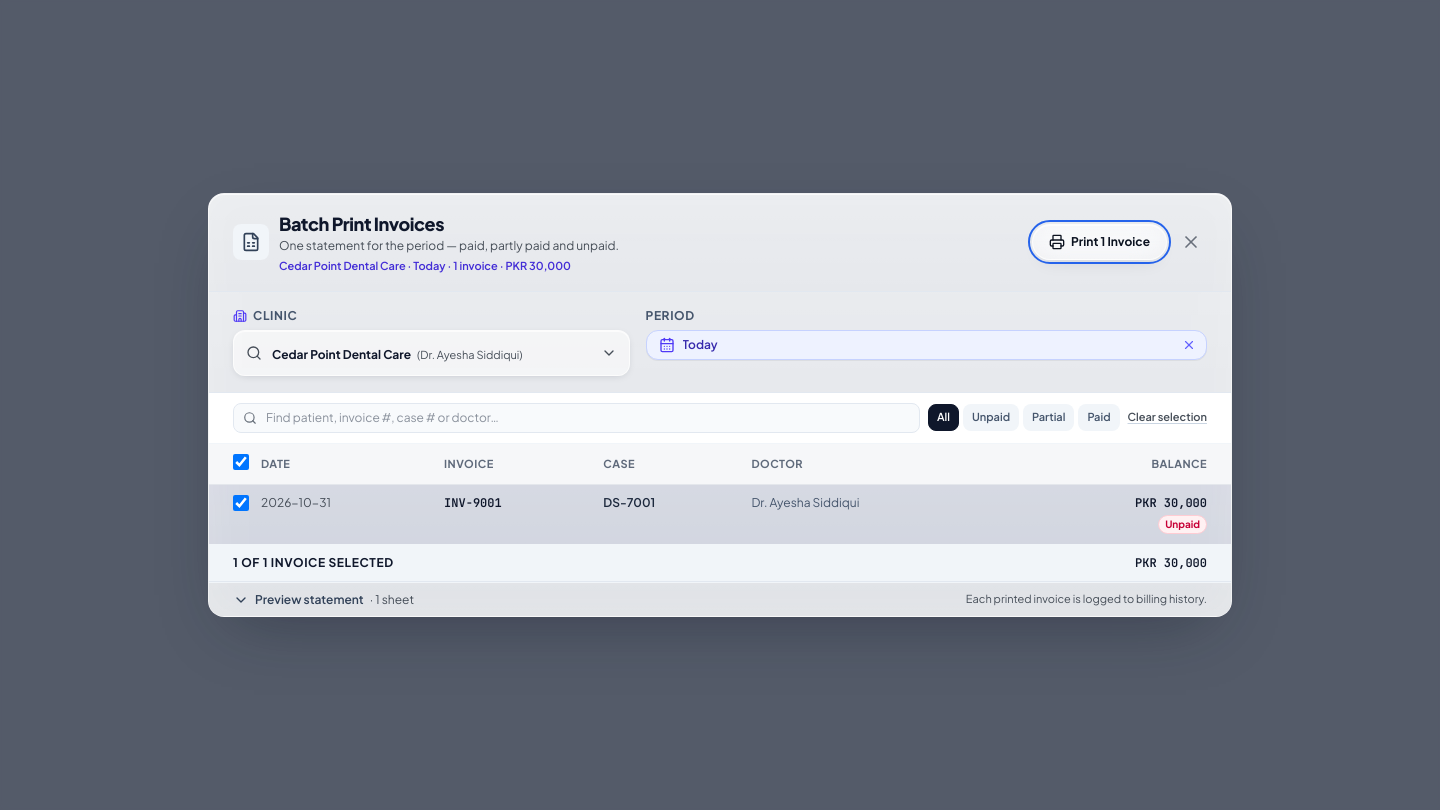
Test: BatchInvoicePrintModal clinic picker › choosing a clinic re-scopes the list and closes the panel
What coordinates should you click on to do the following:
click the dropdown labelled "Cedar Point Dental Care(Dr. Ayesha Siddiqui)"
I would click on:
 (431, 353)
Its box is [233,330,630,376].
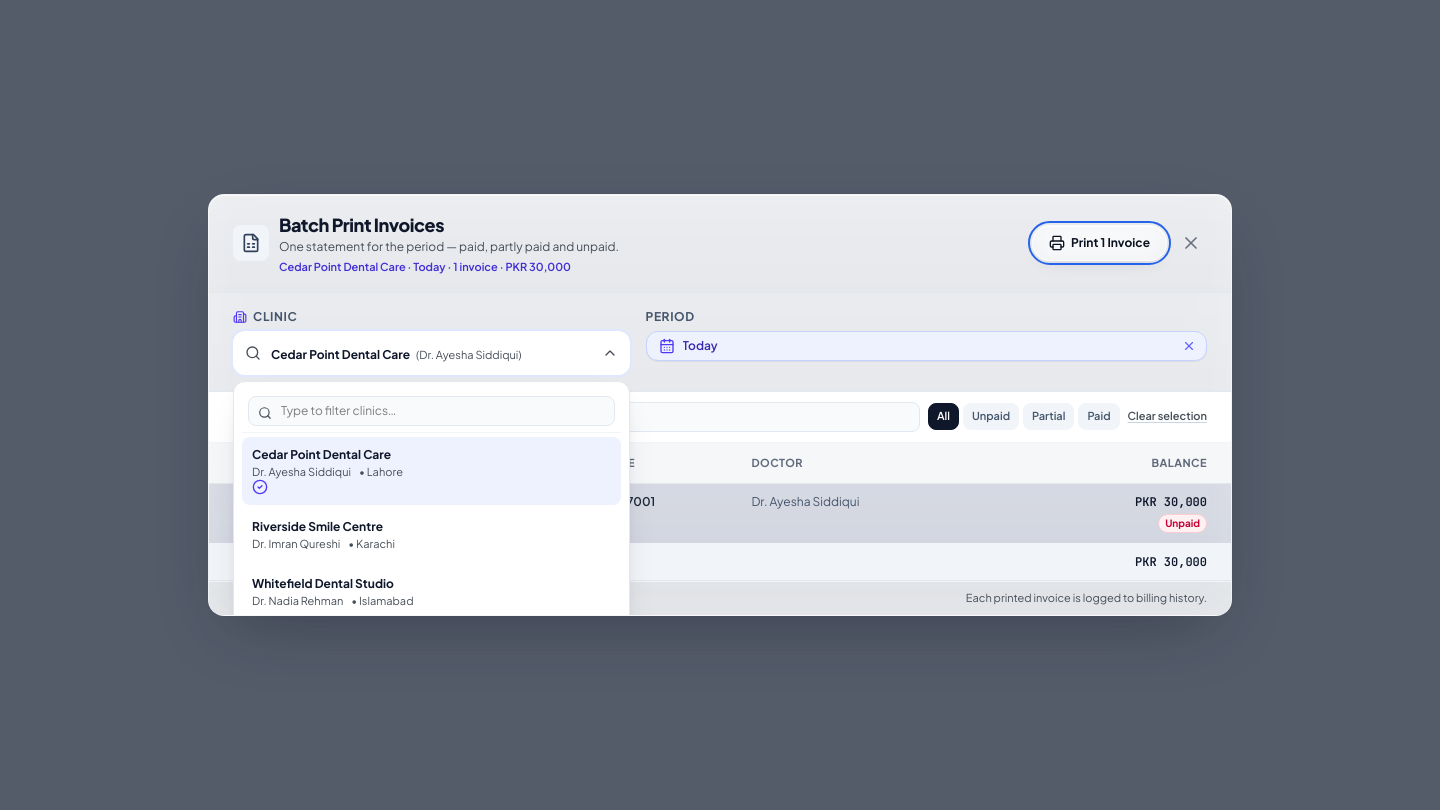
What coordinates should you click on to do the following:
click the option "Riverside Smile Centre Dr. Imran Qureshi • Karachi"
I would click on:
 (318, 527)
Its box is [242,509,620,562].
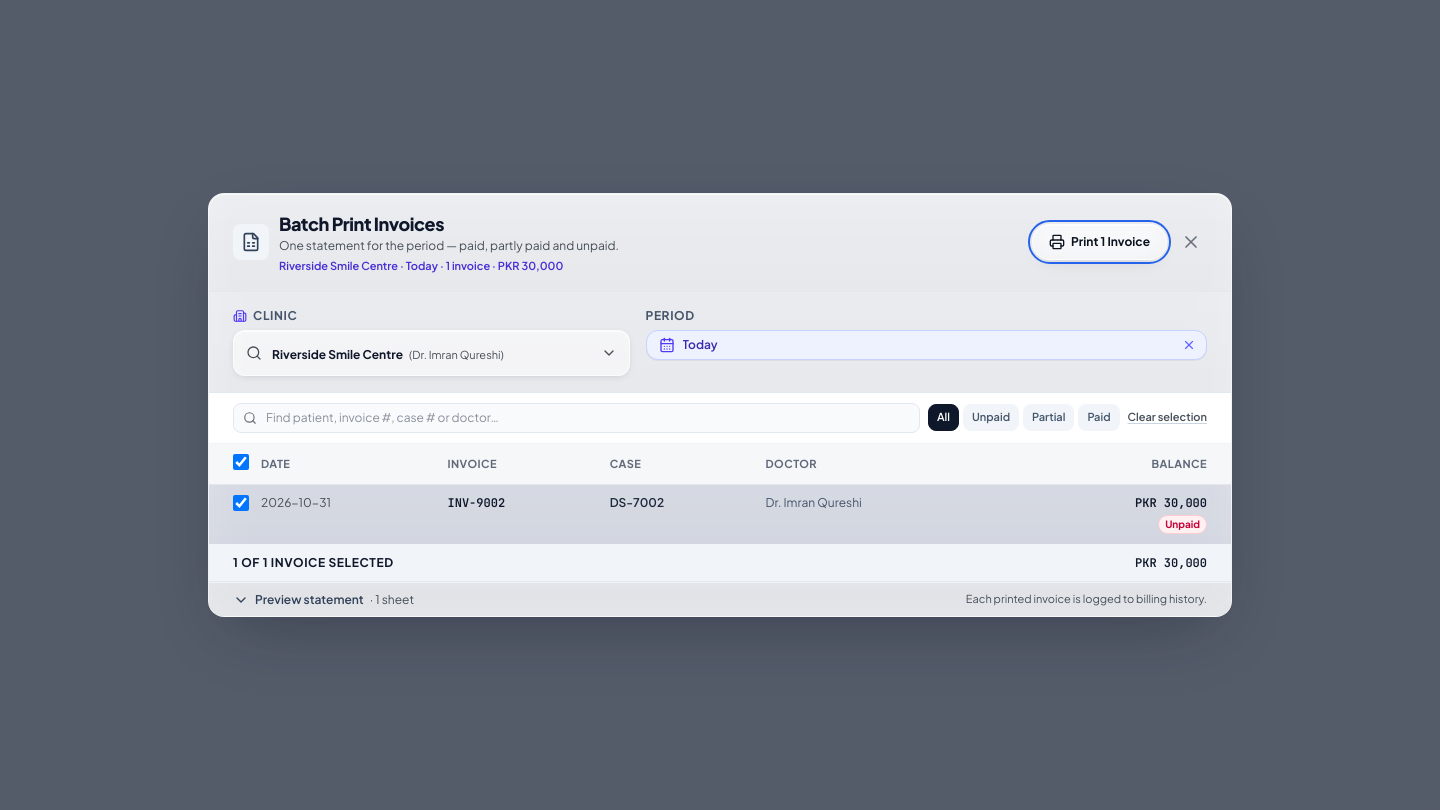
Result: the dropdown labelled "Riverside Smile Centre(Dr. Imran Qureshi)" is shown at [233,330,630,376]
